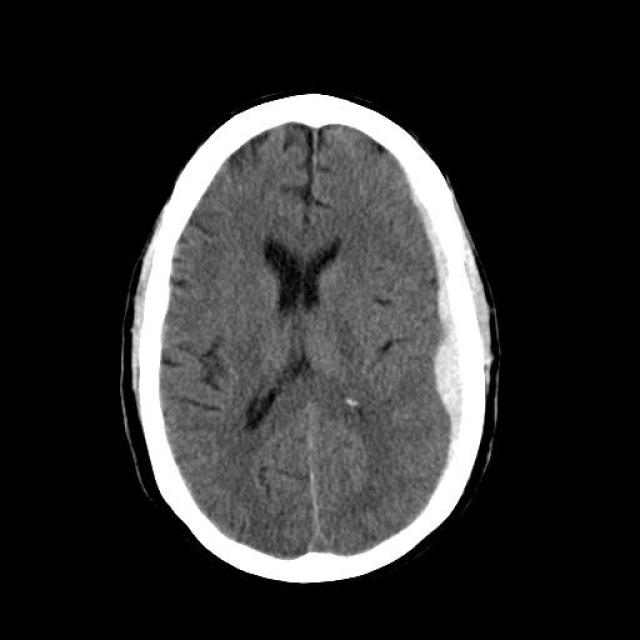Subdural: (378, 169, 508, 491)
